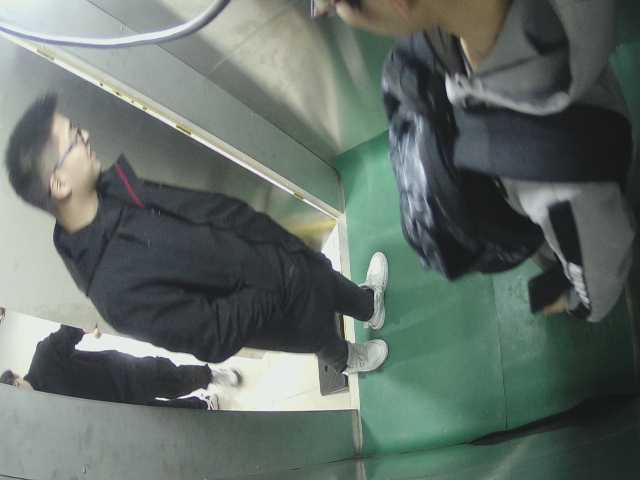bag: (358, 36, 533, 281)
person: (13, 82, 393, 365)
